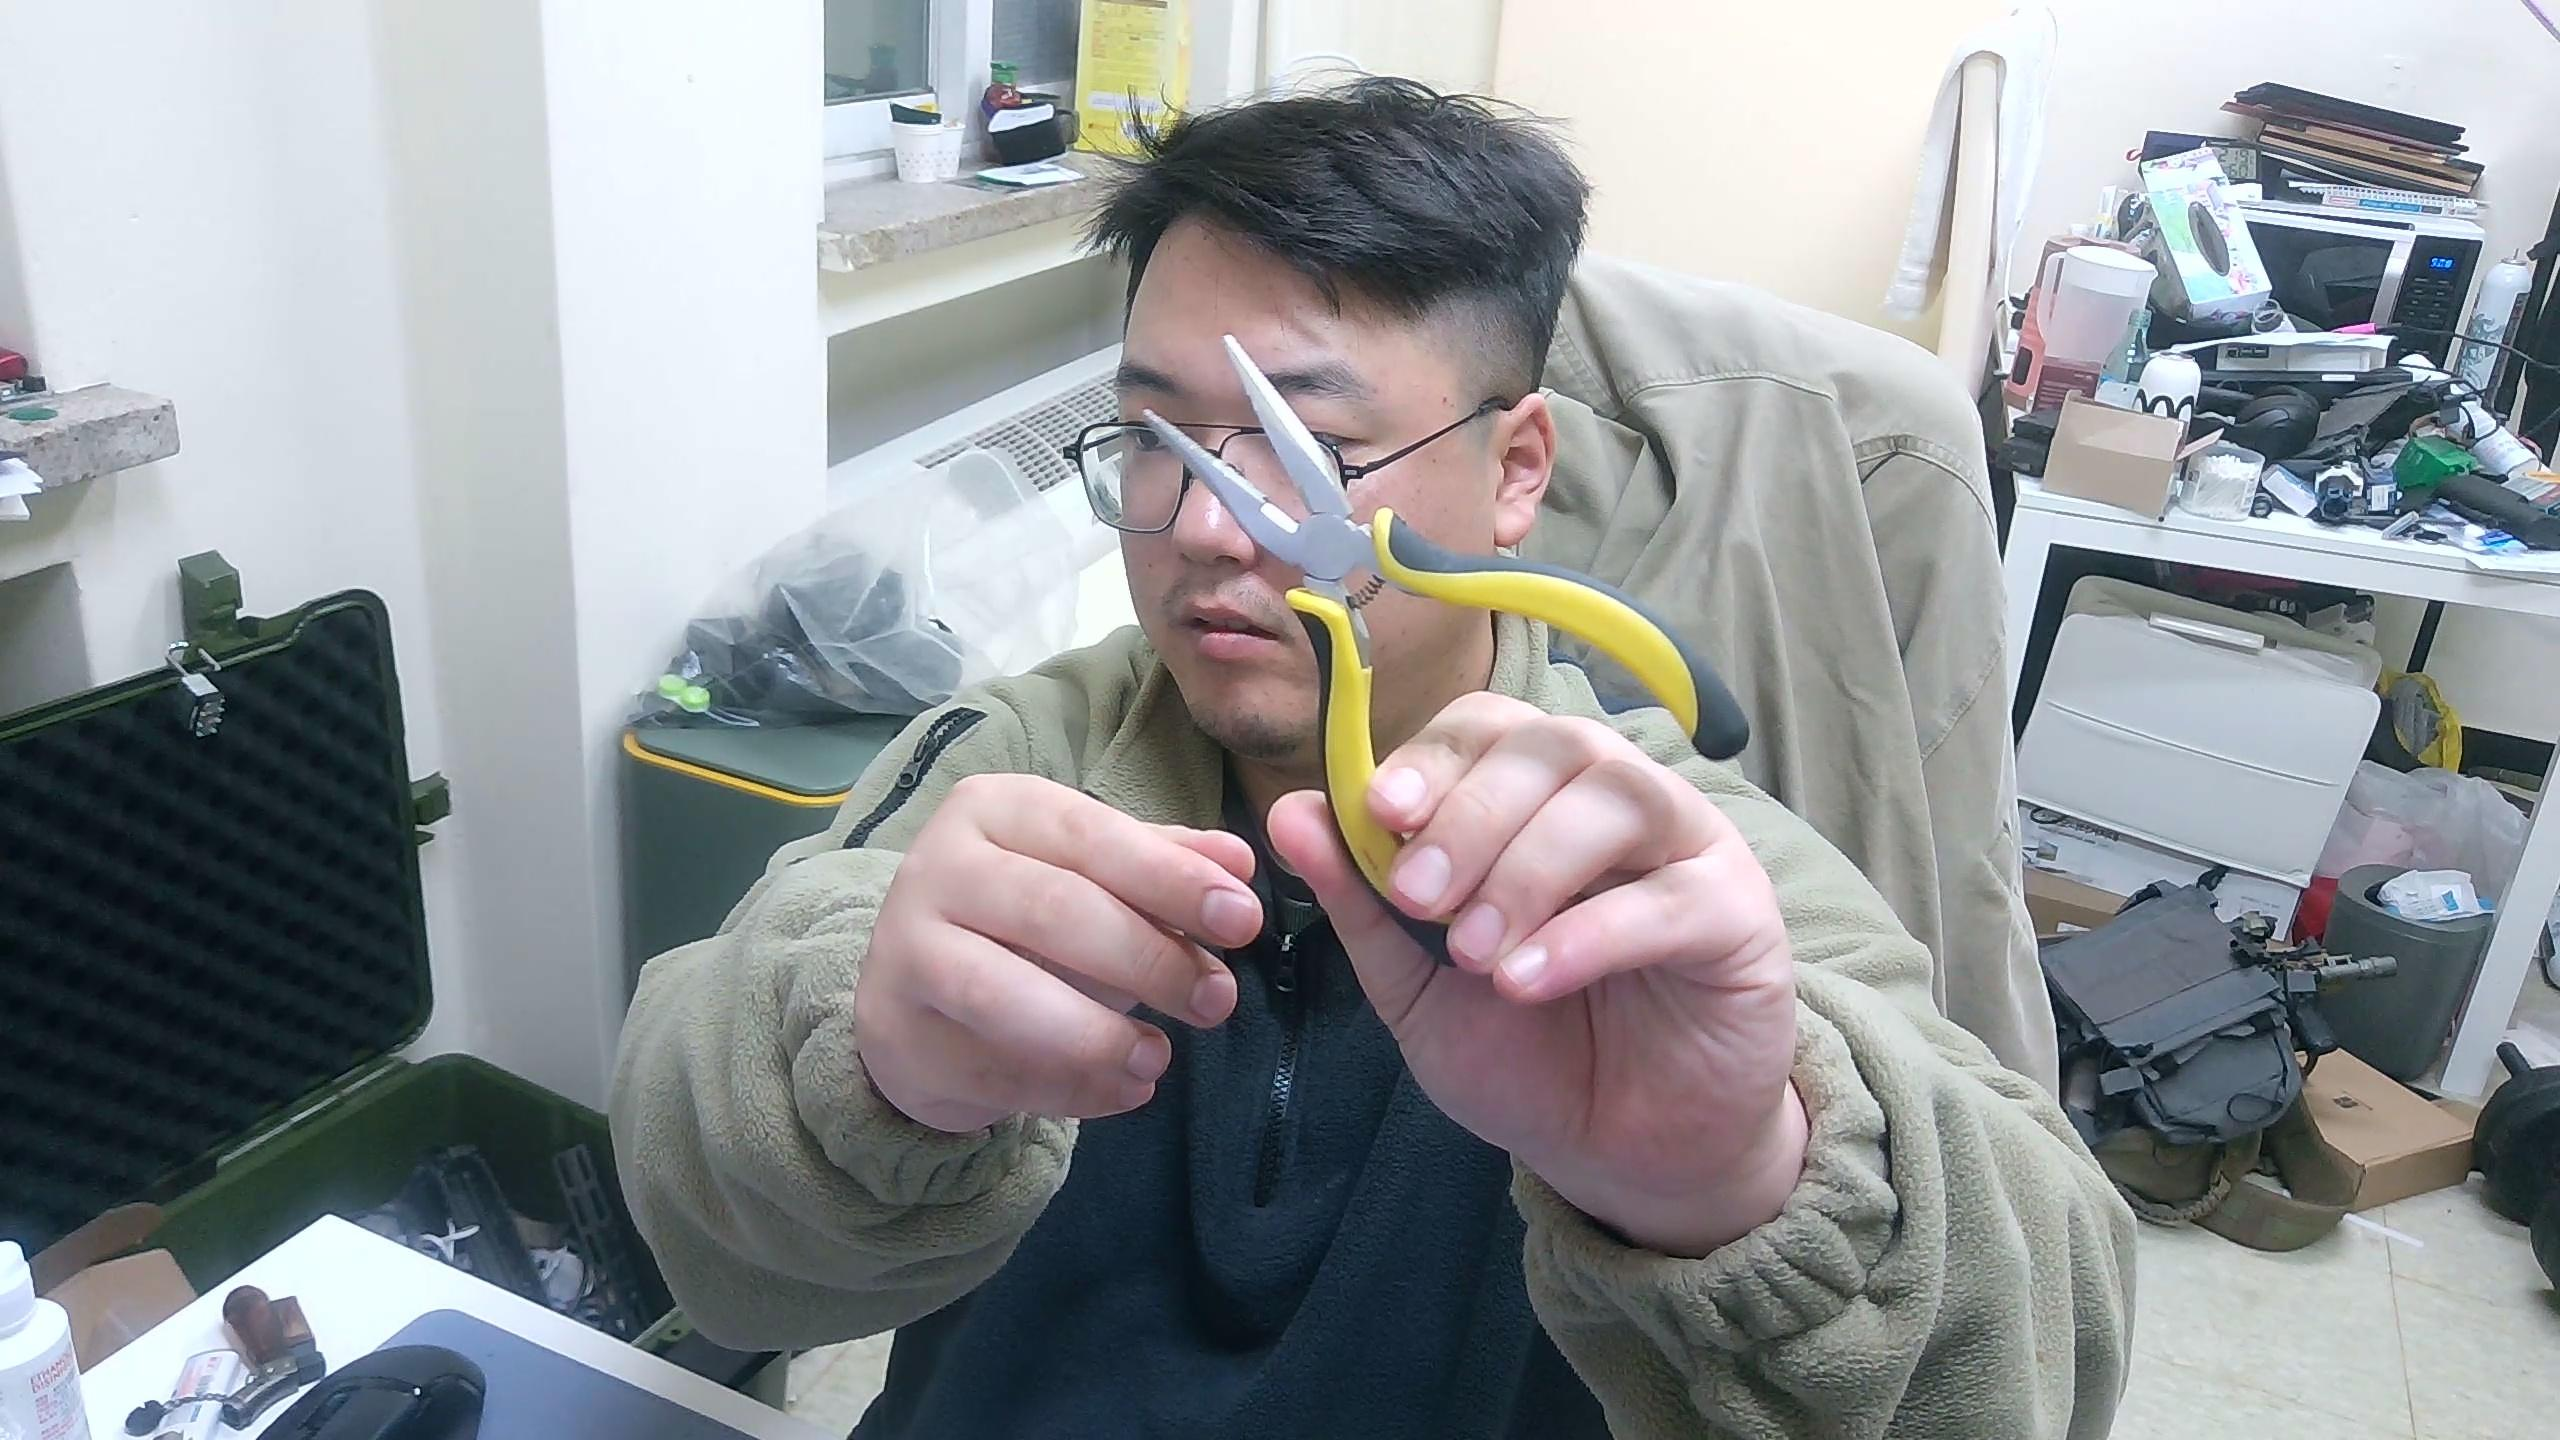earphone: (1215, 332, 1755, 916)
